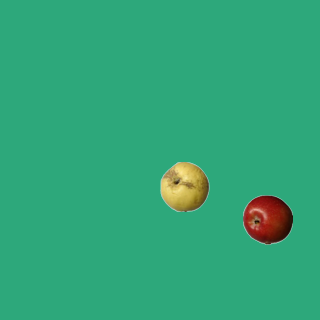Apple Braeburn: (242, 194, 292, 244)
Apple Golden 1: (159, 161, 209, 211)
